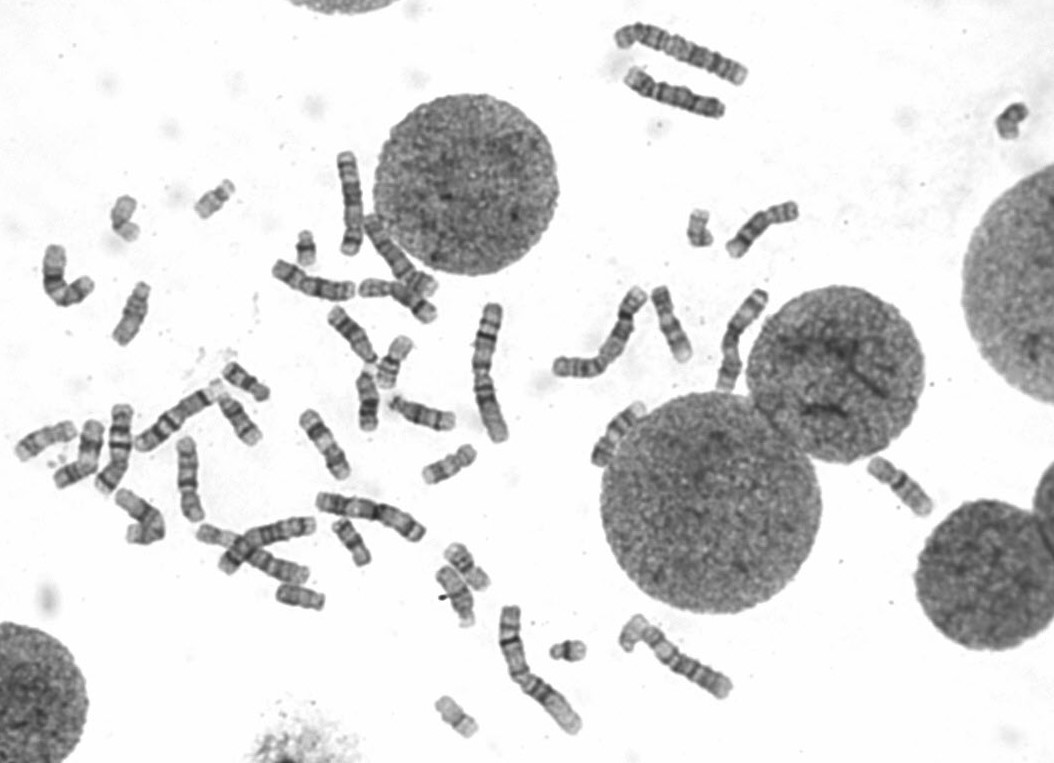chromosomes: (491, 599, 593, 745), (603, 6, 755, 89), (545, 282, 655, 386), (706, 274, 783, 410), (186, 520, 314, 586), (465, 296, 518, 455), (361, 208, 448, 298), (618, 62, 739, 126), (642, 623, 737, 703), (311, 484, 432, 545), (722, 191, 814, 270), (862, 450, 944, 535), (217, 510, 318, 576), (131, 383, 213, 456), (28, 237, 103, 311), (585, 399, 657, 473), (89, 396, 141, 498), (53, 411, 114, 496), (269, 252, 362, 306), (356, 274, 448, 328), (329, 146, 372, 261), (105, 271, 166, 352), (298, 398, 354, 486), (982, 91, 1054, 158), (649, 276, 697, 373), (171, 425, 215, 527), (323, 302, 383, 376), (214, 380, 271, 456), (114, 481, 171, 556), (379, 389, 464, 437), (14, 412, 83, 470), (430, 562, 481, 633), (419, 440, 484, 491), (105, 187, 156, 251), (191, 169, 245, 227), (329, 513, 383, 569), (348, 358, 386, 437), (443, 534, 494, 592), (215, 356, 275, 405), (431, 687, 483, 743), (373, 332, 420, 393), (272, 576, 330, 623), (679, 200, 720, 256), (287, 224, 325, 274), (615, 608, 653, 655), (548, 633, 593, 665)
